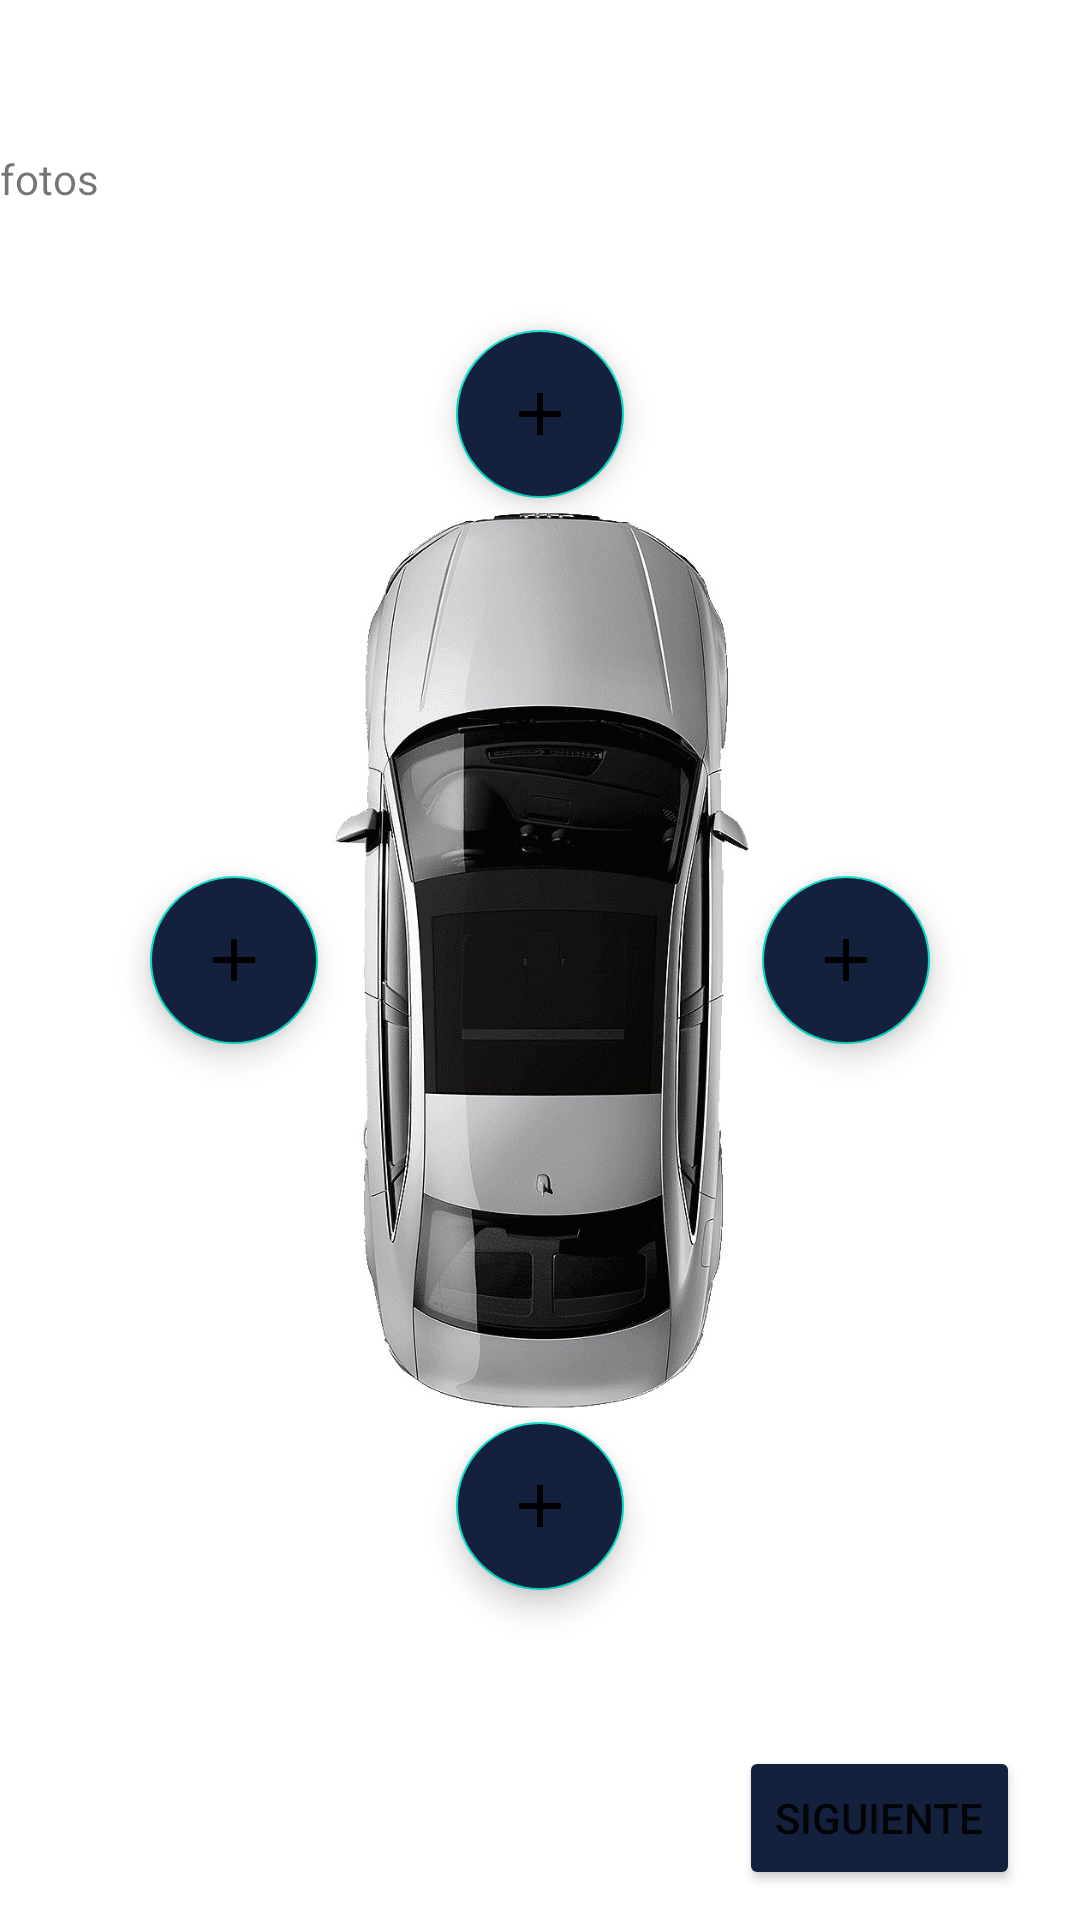

Icons on this 1080w x 1920h Android screen, each with its box as [x1=x1, y1=y1, x2=x2, y2=y2]:
add: [x1=456, y1=330, x2=624, y2=498], [x1=150, y1=876, x2=318, y2=1044], [x1=762, y1=876, x2=930, y2=1044], [x1=456, y1=1422, x2=624, y2=1590]
